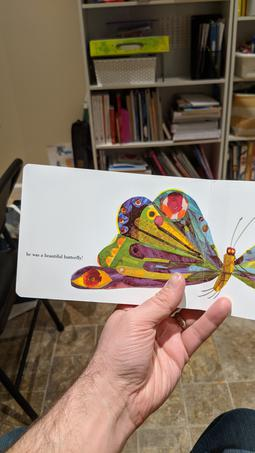text block: (20, 243, 89, 266)
